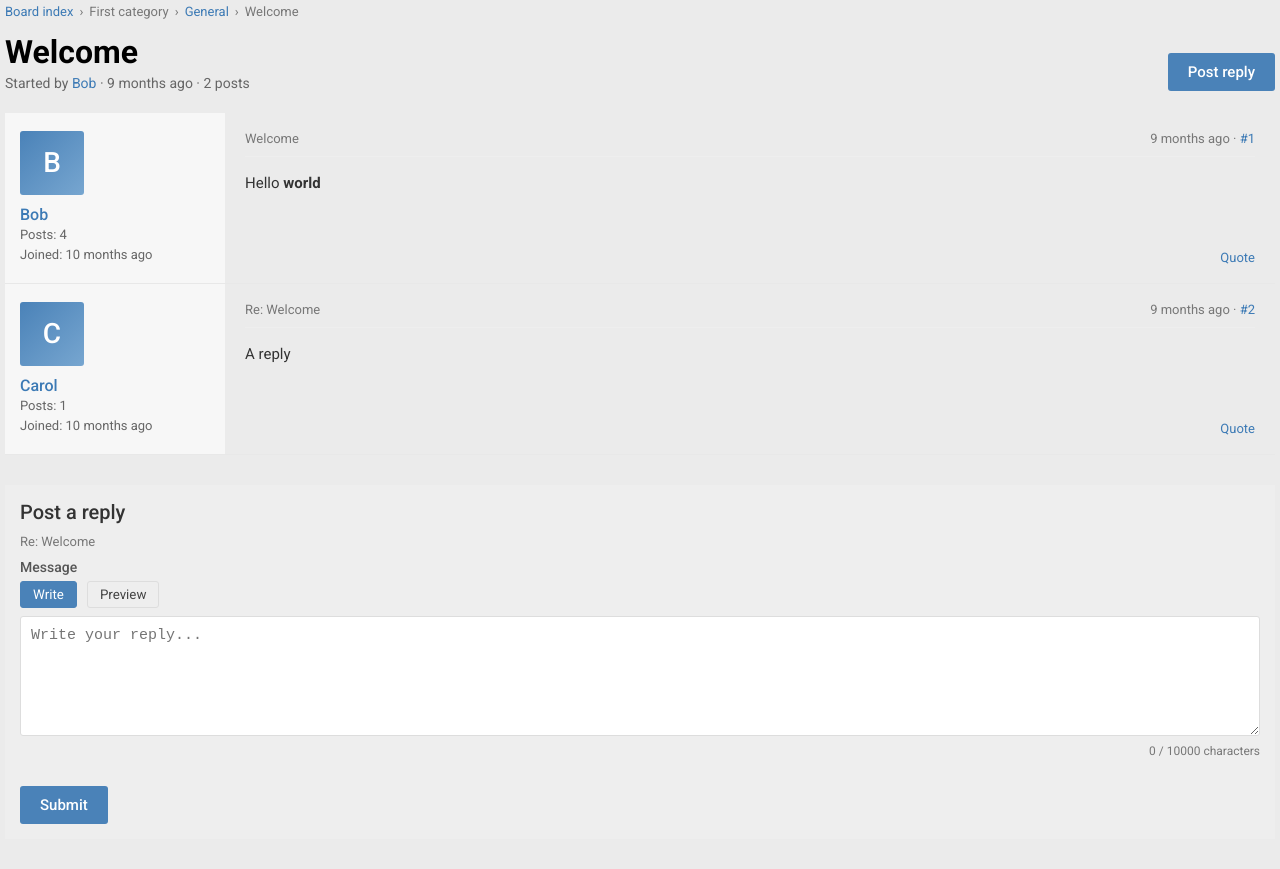
it: reply error 429 posting_too_fast is translated and the draft is kept
In the text box labelled "Message": [640, 676] box left=20, top=616, right=1260, bottom=736, type "my draft"
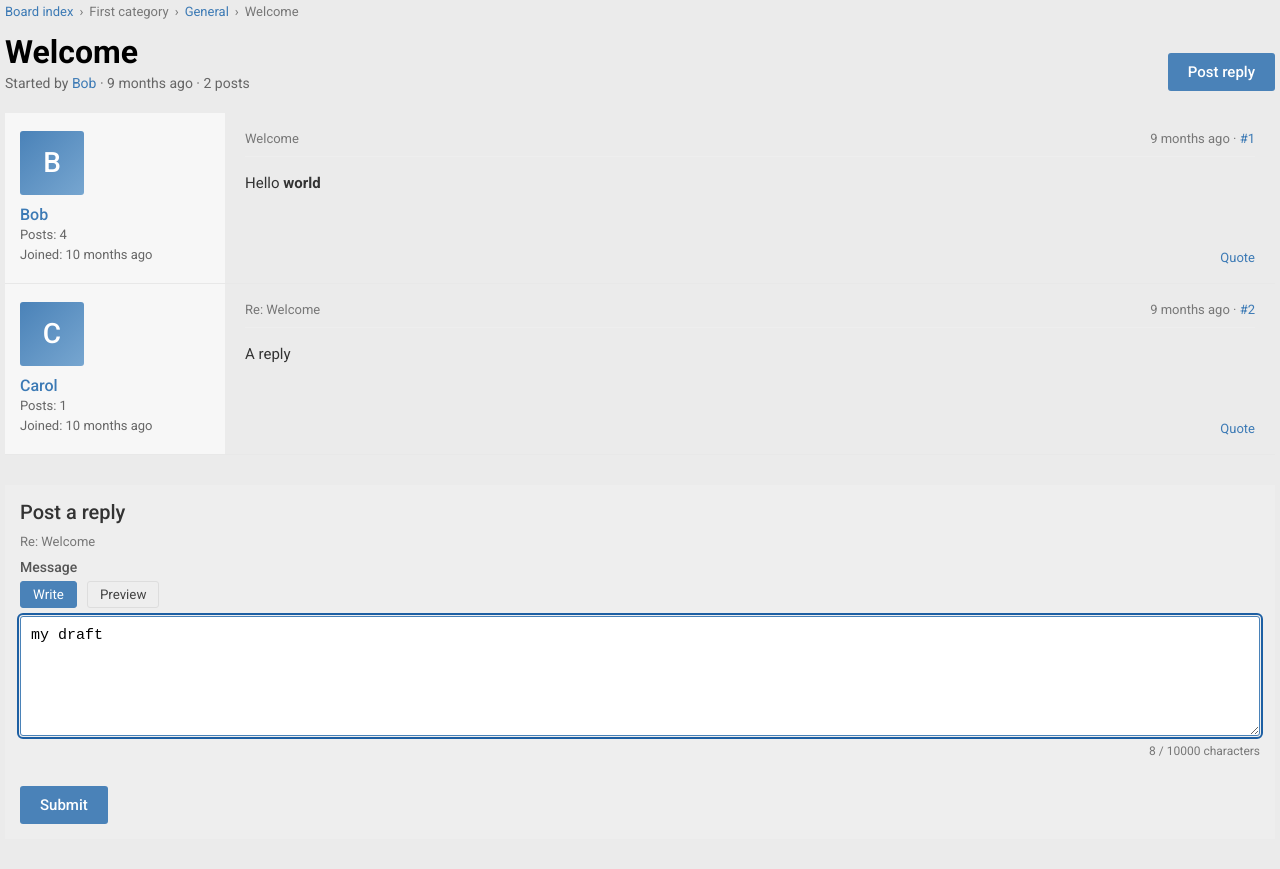
Click the button "Submit": [64, 805] box left=20, top=786, right=108, bottom=824
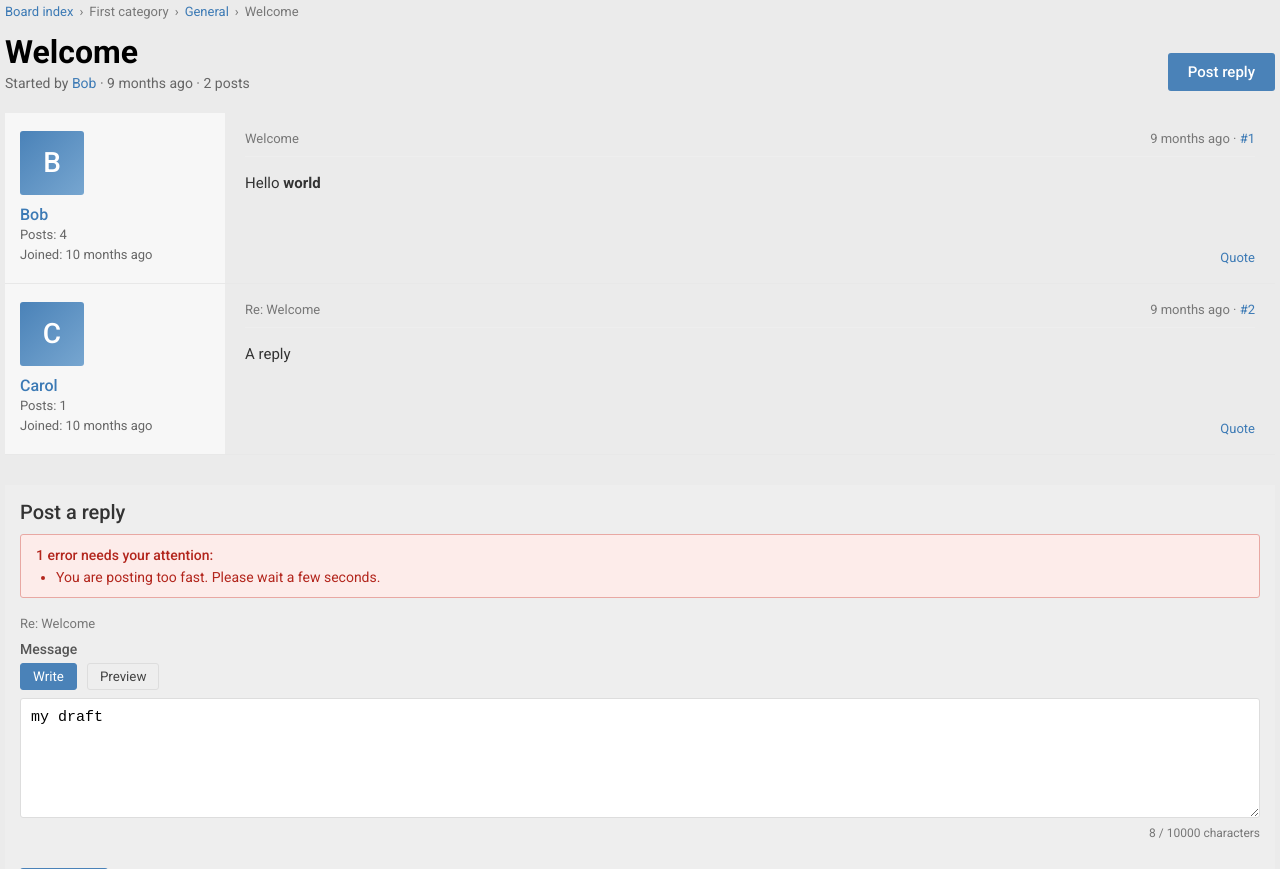
Now the message shows "You are posting too fast", box left=56, top=569, right=380, bottom=585
